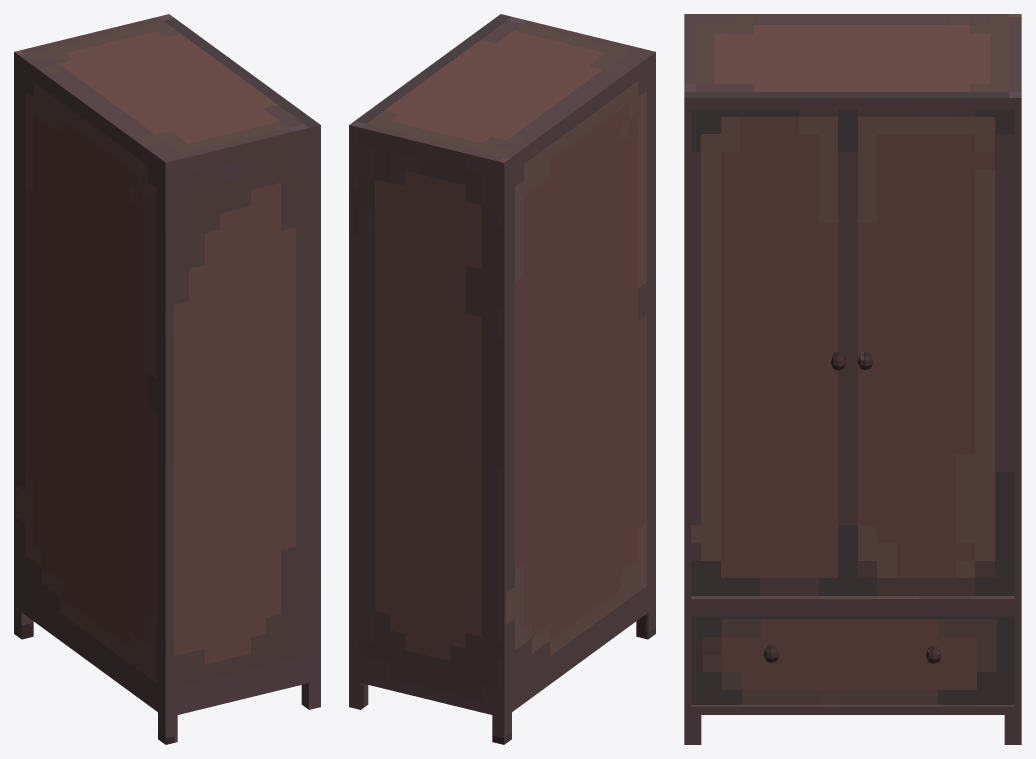
Rendered from Closet.fbx.
3 views of the same model, side by side, from view 1: azimuth 30°, elevation 25°; view 2: azimuth 150°, elevation 25°; view 3: azimuth 270°, elevation 25° (orthographic). The views are drawn at different scales.
Visible parts, largest first — view 1: Cube.004; view 2: Cube.004; view 3: Cube.004.
Boxes of the visible parts, bbox=[...] form: Cube.004: bbox=[14, 14, 320, 744]; Cube.004: bbox=[349, 14, 655, 744]; Cube.004: bbox=[684, 14, 1021, 744].
Bounding box in the file's own units: 127 × 423 × 200.
1 material, 1 textured.
